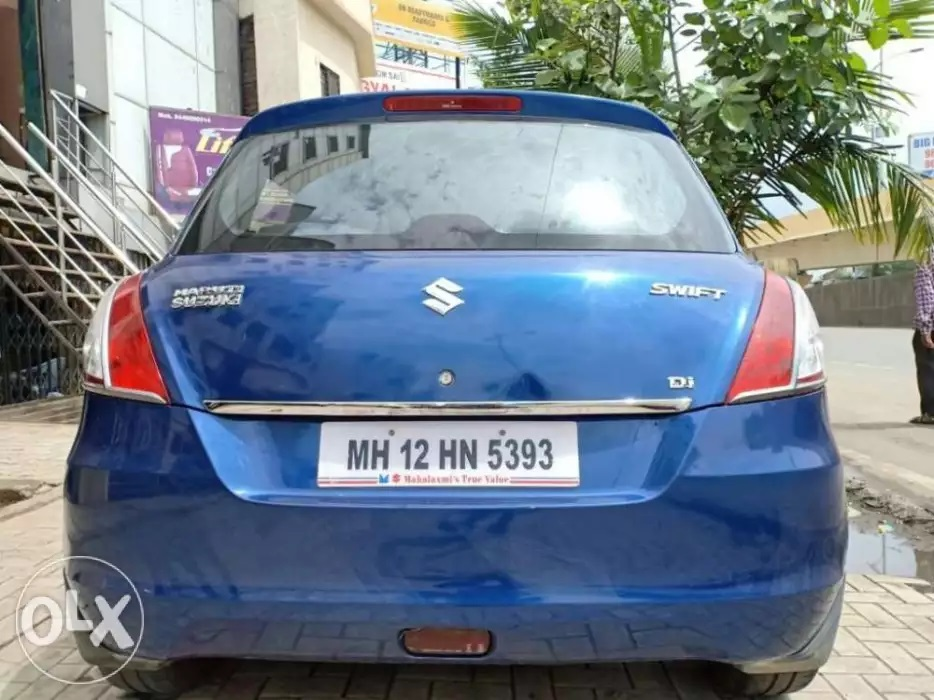licenseplate: (307, 414, 593, 492)
